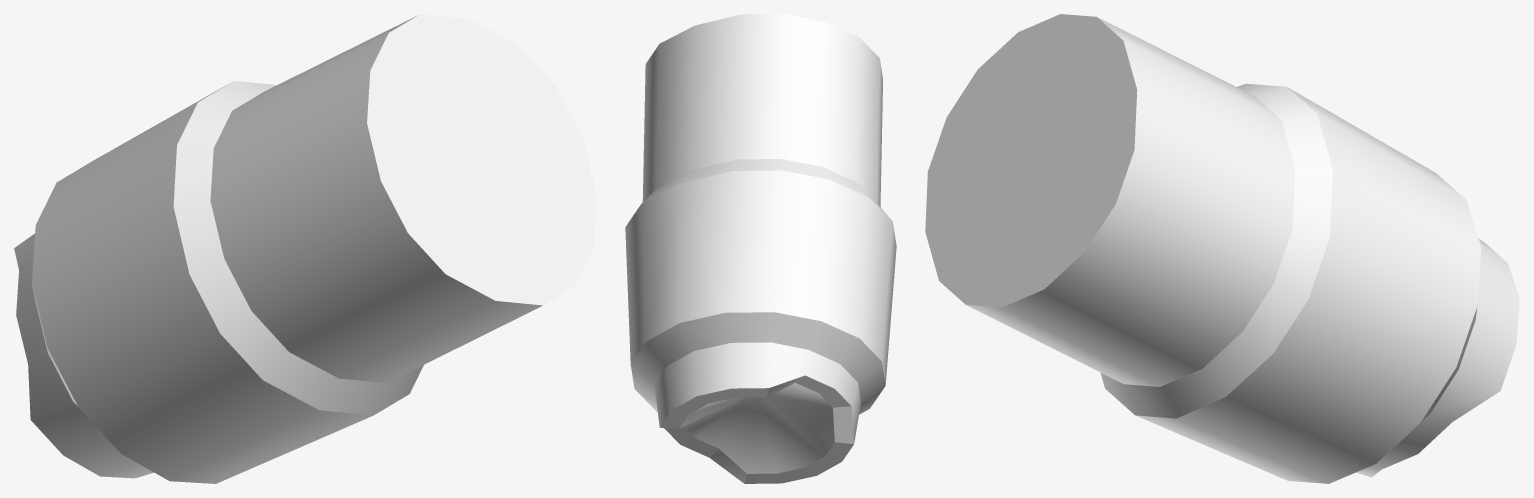
Rendered from ama_collectable_scrap_09.glb.
3 views of the same model, side by side, from view 1: azimuth 30°, elevation 25°; view 2: azimuth 150°, elevation 25°; view 3: azimuth 270°, elevation 25° (orthographic). The views are drawn at different scales.
Parts seen in each view (by area): view 1: shipScrapPart_09; view 2: shipScrapPart_09; view 3: shipScrapPart_09.
Boxes of the visible parts, bbox=[...] form: shipScrapPart_09: bbox=[14, 14, 596, 483]; shipScrapPart_09: bbox=[625, 14, 896, 483]; shipScrapPart_09: bbox=[925, 14, 1519, 483].
Bounding box in the file's own units: 0.5644 × 0.6478 × 0.6948.
1 material, 1 textured.
